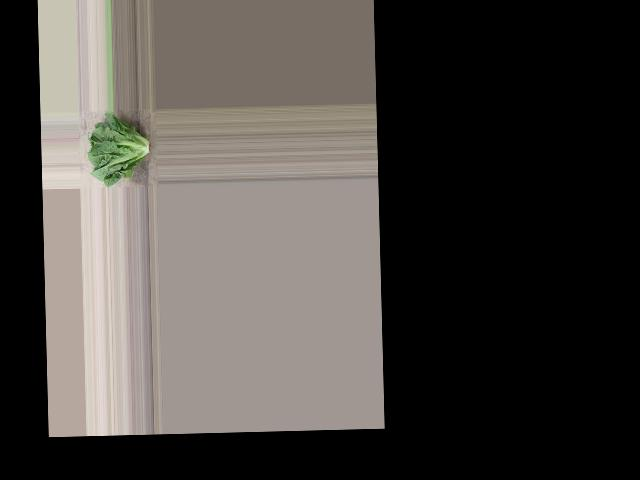lettuce: (84, 111, 155, 185)
